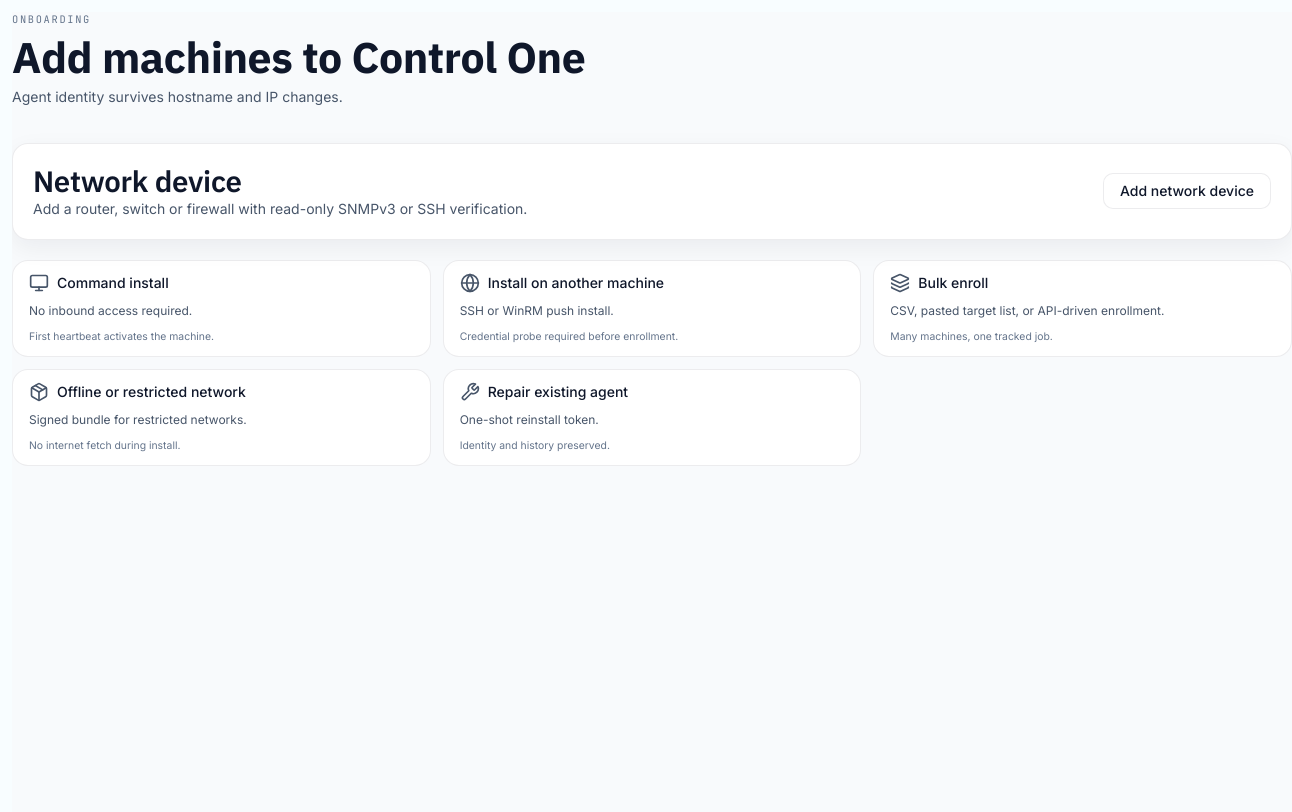
Test: Onboard › lets operators choose the target OS for command install
What coordinates should you click on to do the following:
click the button "Command install"
I would click on:
 (113, 283)
Its box is [12,260,431,357].
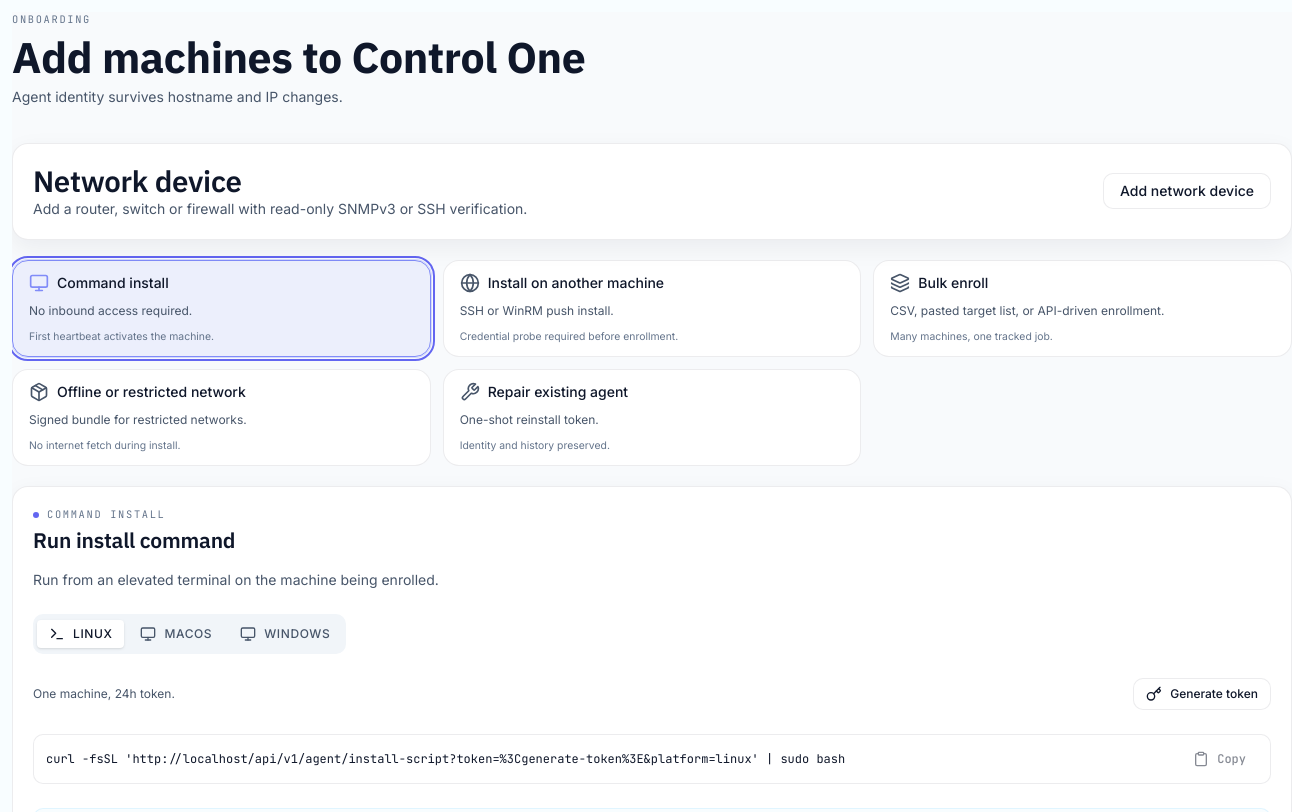
What coordinates should you click on to do the following:
click the tab "Linux"
I would click on:
 (81, 634)
Its box is [37,620,124,648].
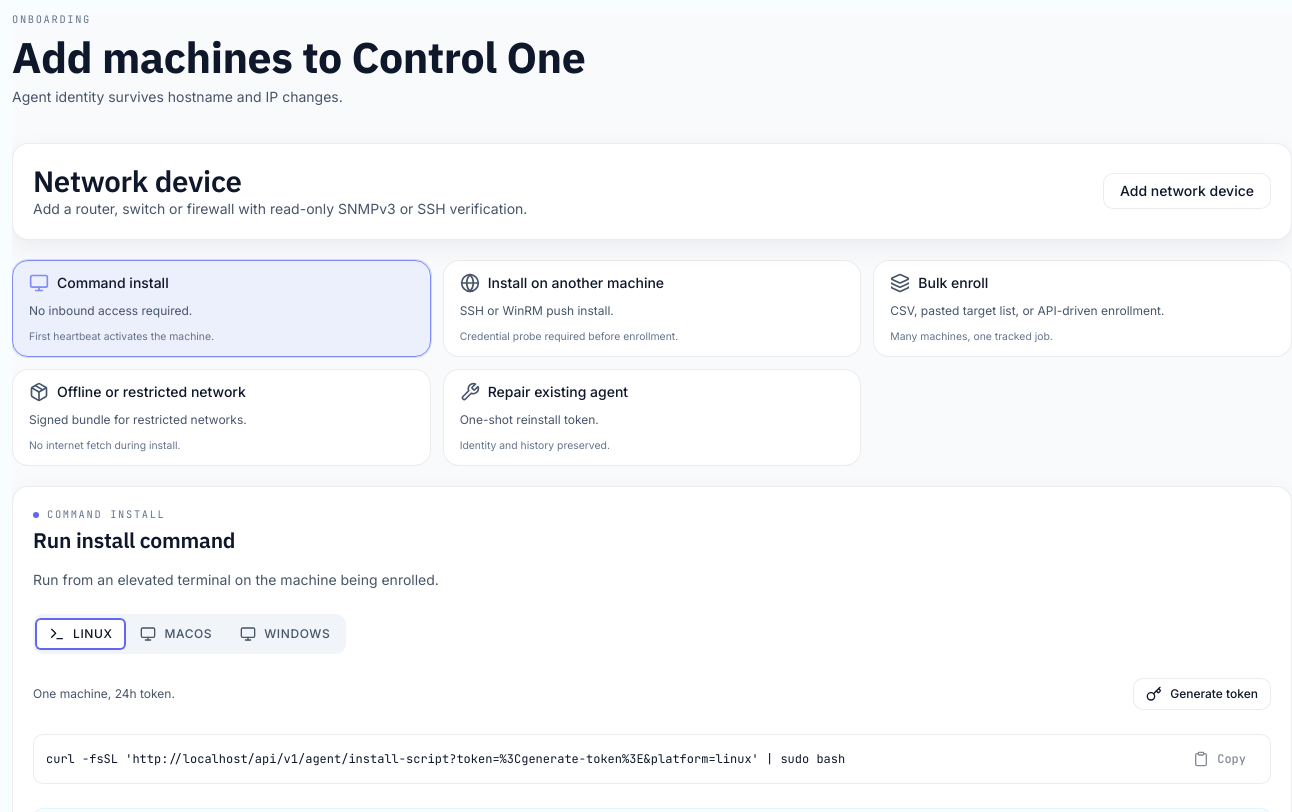
Expected: the text "platform=linux" is shown, [46,751,845,767]
What coordinates should you click on to do the following:
click the tab "macOS"
I would click on:
 (176, 634)
Its box is [128,620,224,648].
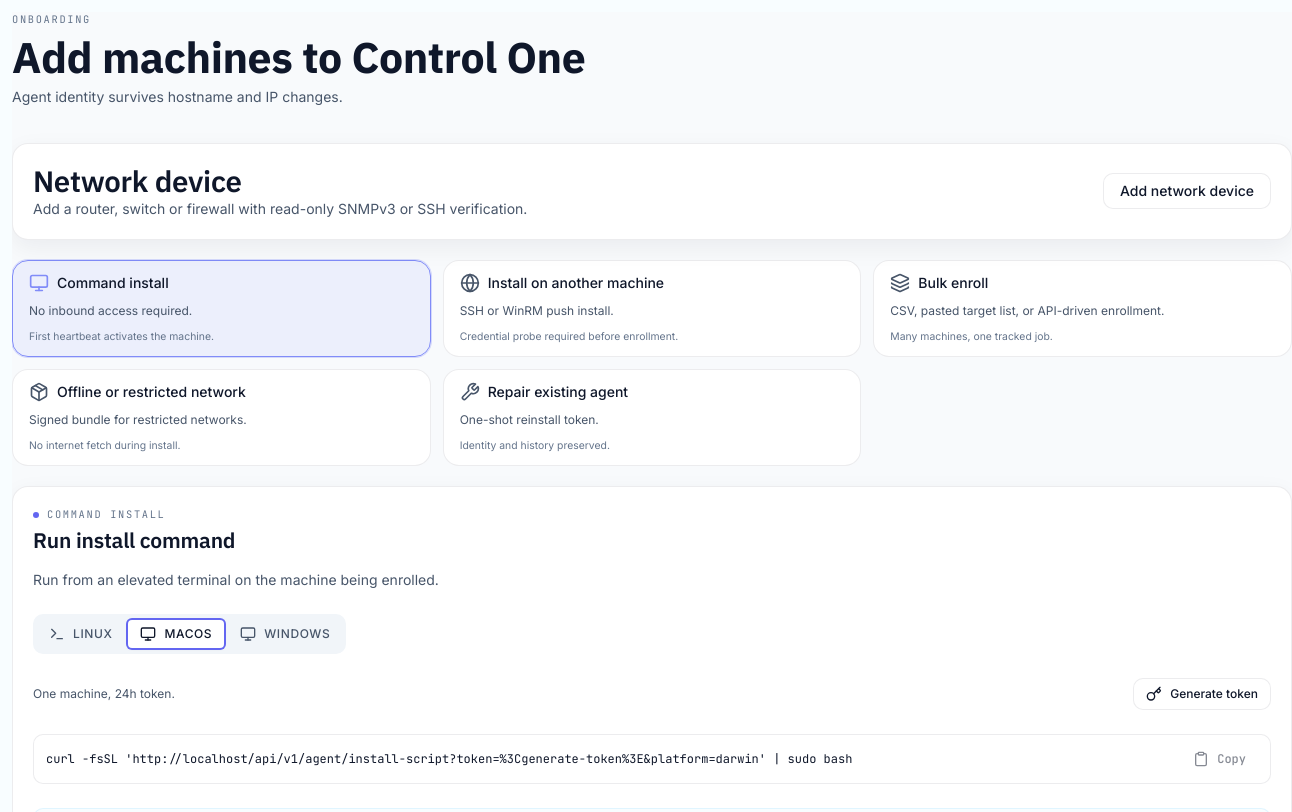
Expected: the text "platform=darwin" is shown, [46,751,852,767]
What coordinates should you click on to do the following:
click the tab "Windows"
I would click on:
 (285, 634)
Its box is [228,620,342,648].
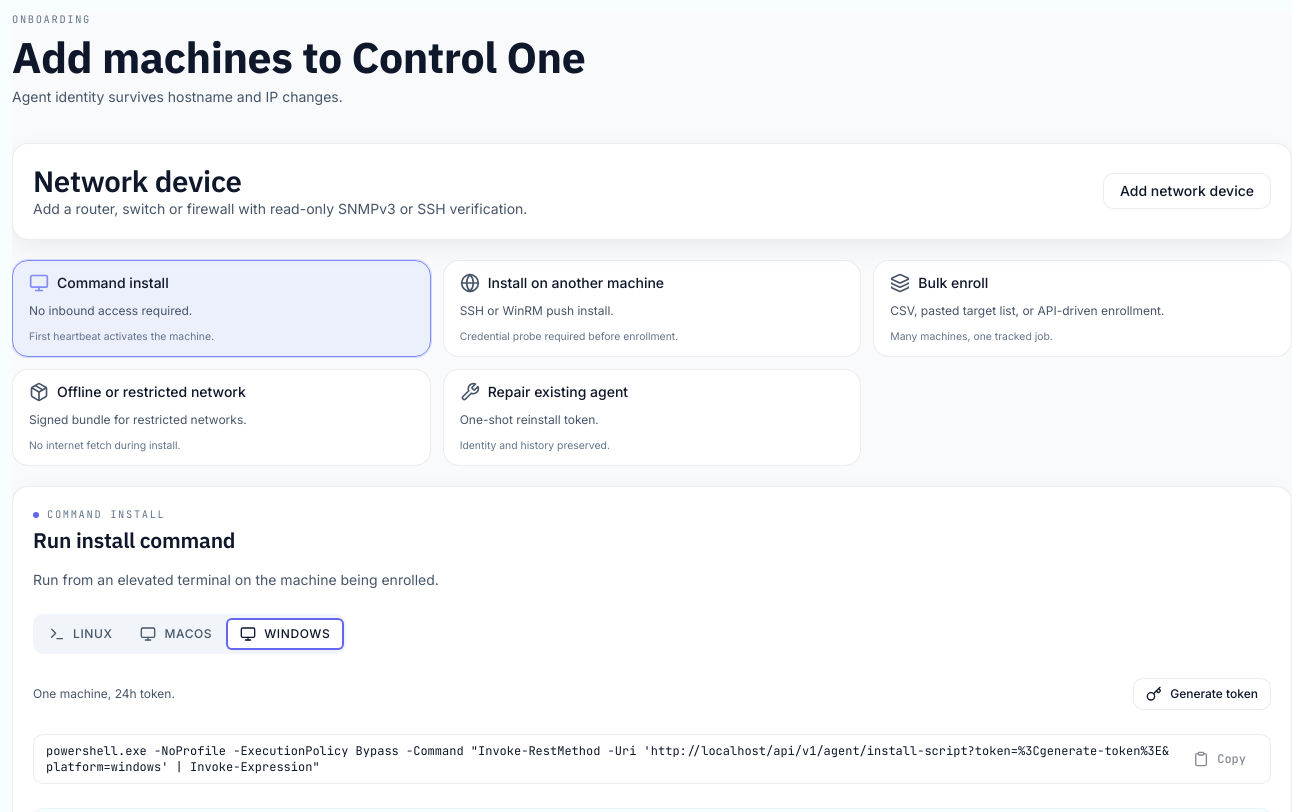
Expected: the text "platform=windows" is shown, [46,743,1169,775]
